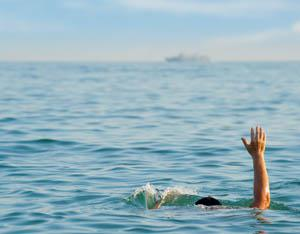swimmer: (153, 126, 273, 213)
